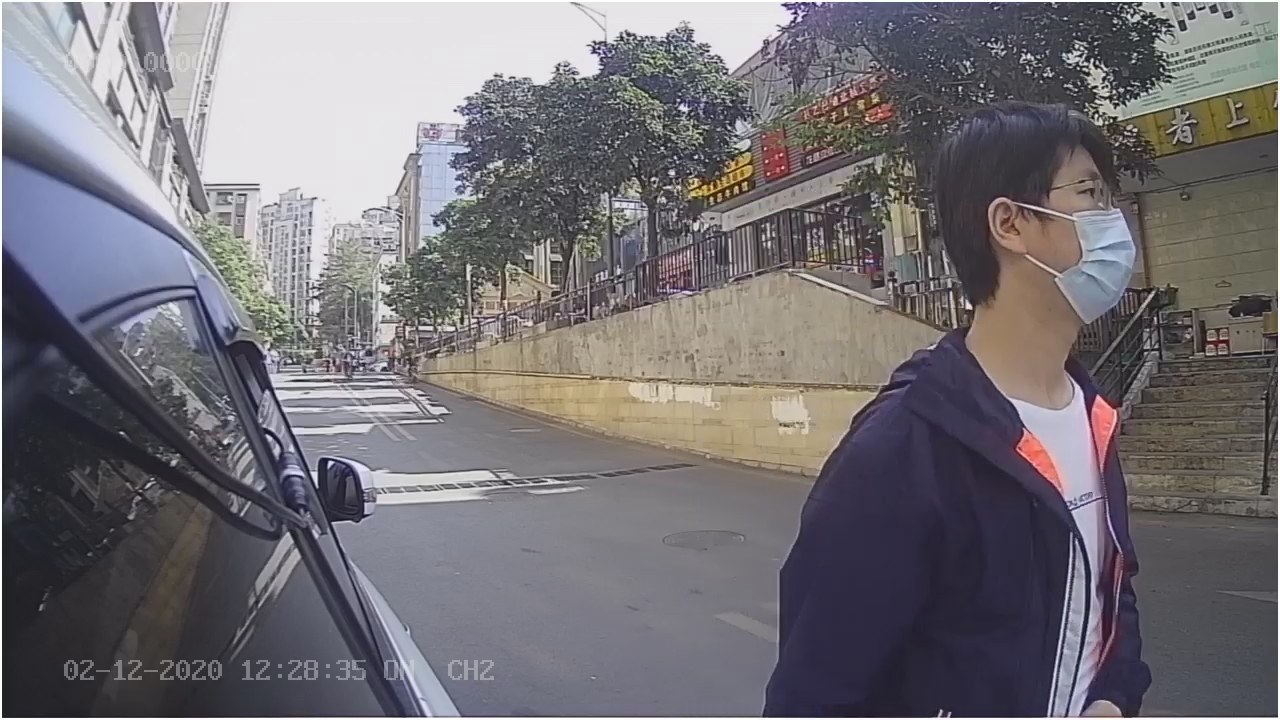person: (772, 67, 1148, 629)
